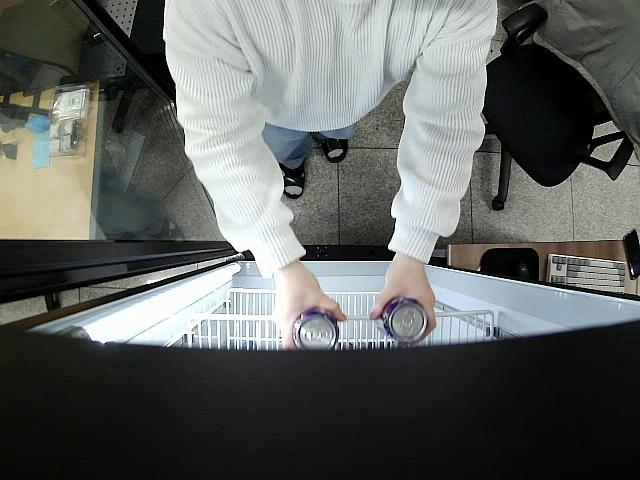14_welchsGrape: (374, 296, 430, 344), (291, 308, 340, 350)
